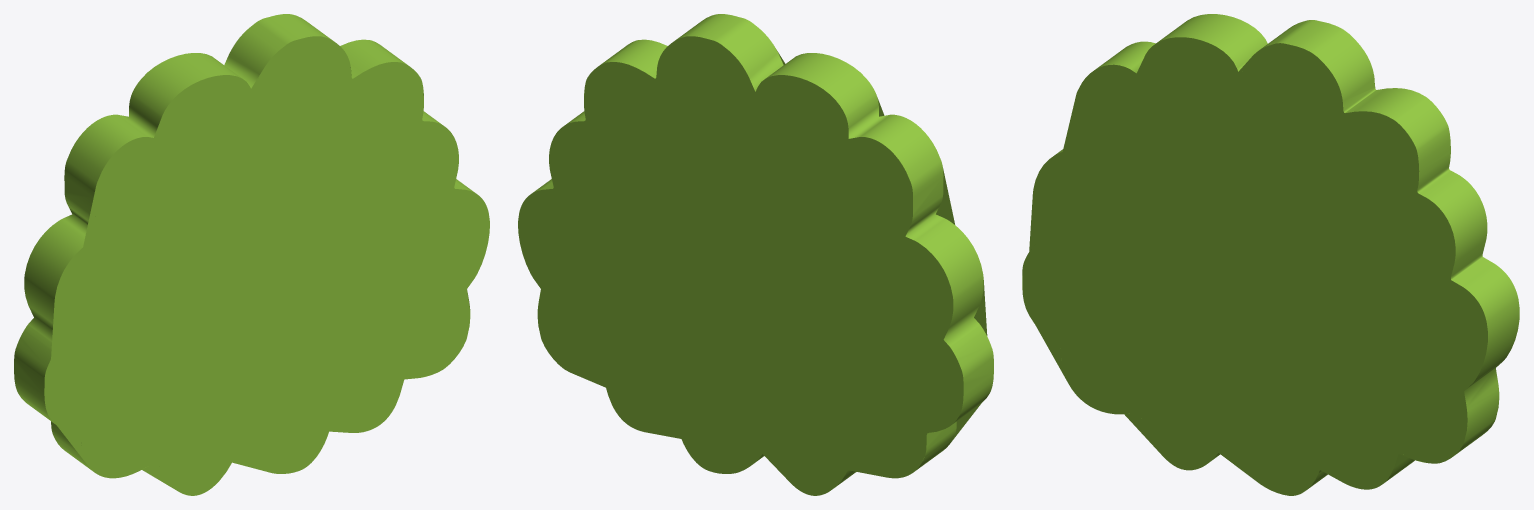
The model's file is HidePowerUp.fbx.
The picture shows the model from 3 angles, left to right: view 1: azimuth 30°, elevation 25°; view 2: azimuth 150°, elevation 25°; view 3: azimuth 330°, elevation 25°; orthographic projection. The views are drawn at different scales.
Parts seen in each view (by area): view 1: Curve; view 2: Curve; view 3: Curve.
Boxes of the visible parts, x1,y1,x2,y2 form: Curve: (14,14,489,495); Curve: (518,14,993,495); Curve: (1022,14,1519,495).
Bounding box in the file's own units: 63.95 × 59.26 × 7.55.
